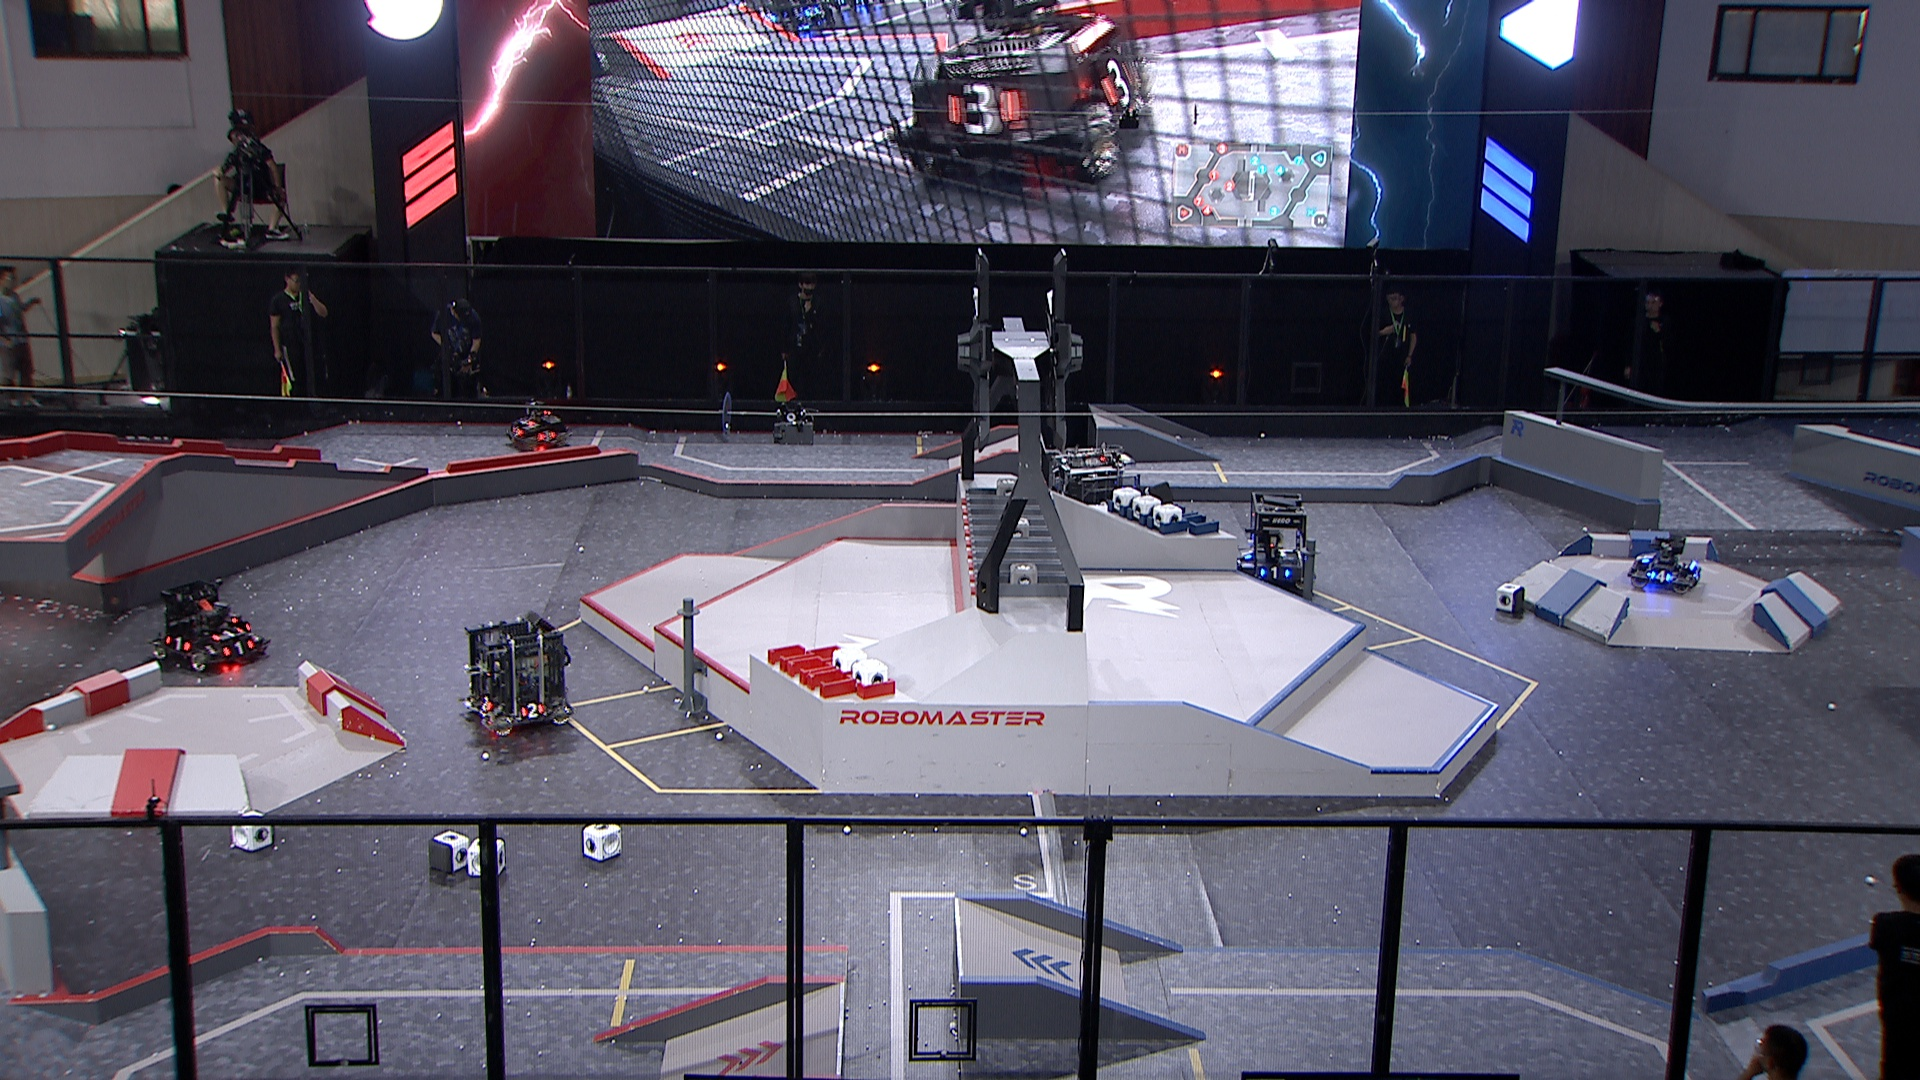armor: (225, 637, 253, 655), (1257, 564, 1291, 578), (214, 626, 244, 641), (475, 692, 493, 712), (167, 636, 190, 651), (522, 703, 549, 716), (1240, 546, 1255, 564), (538, 429, 556, 443), (517, 414, 537, 427), (1651, 570, 1671, 583), (1640, 550, 1655, 566), (1691, 566, 1702, 583), (509, 425, 524, 436)
car: (458, 611, 580, 736), (148, 576, 266, 675), (1044, 442, 1147, 553), (1225, 491, 1316, 599), (1627, 529, 1702, 595), (498, 398, 570, 454)
